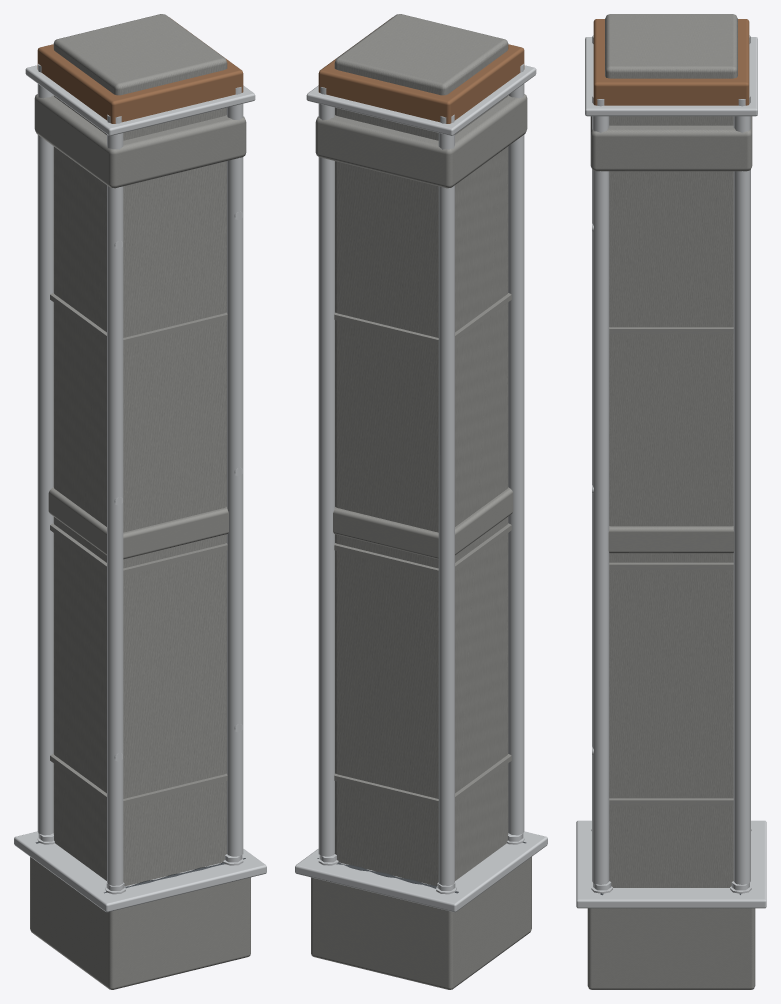
The model's file is fps-survival-forest-outpost-corner-column-31b0d308__32606.glb.
3 renders of one model, left to right at view 1: azimuth 30°, elevation 25°; view 2: azimuth 150°, elevation 25°; view 3: azimuth 270°, elevation 25°, orthographic. The views are drawn at different scales.
Parts seen in each view (by area): view 1: corner-column; view 2: corner-column; view 3: corner-column.
Part boxes in pixels (left/top/right/bottom): corner-column: left=14, top=14, right=266, bottom=989; corner-column: left=295, top=14, right=547, bottom=989; corner-column: left=576, top=14, right=766, bottom=989.
Bounding box in the file's own units: 0.6598 × 3.5 × 0.6598.
4 materials, 1 textured.
